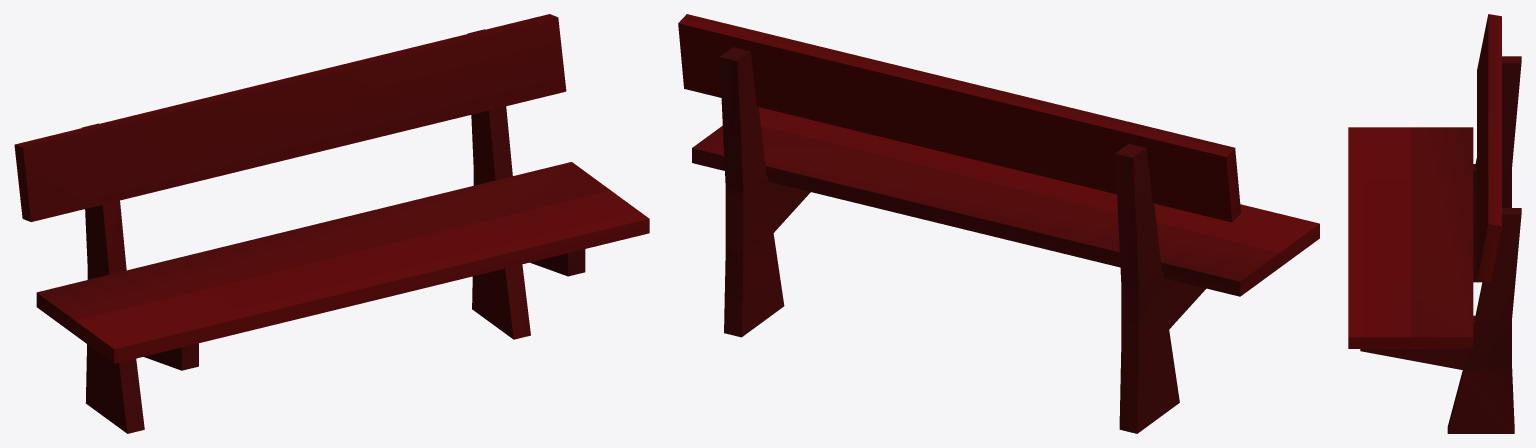
Rendered from WoodBenchBasic.glb.
3 renders of one model, left to right at view 1: azimuth 30°, elevation 25°; view 2: azimuth 150°, elevation 25°; view 3: azimuth 270°, elevation 25°, orthographic. The views are drawn at different scales.
Visible parts, largest first — view 1: WoodBenchBasic; view 2: WoodBenchBasic; view 3: WoodBenchBasic.
Part boxes in pixels (bbox=[...]): WoodBenchBasic: bbox=[14, 14, 649, 433]; WoodBenchBasic: bbox=[678, 14, 1319, 433]; WoodBenchBasic: bbox=[1348, 14, 1521, 433].
Size of the model in its own units: 9.05 by 4.6 by 3.13.
